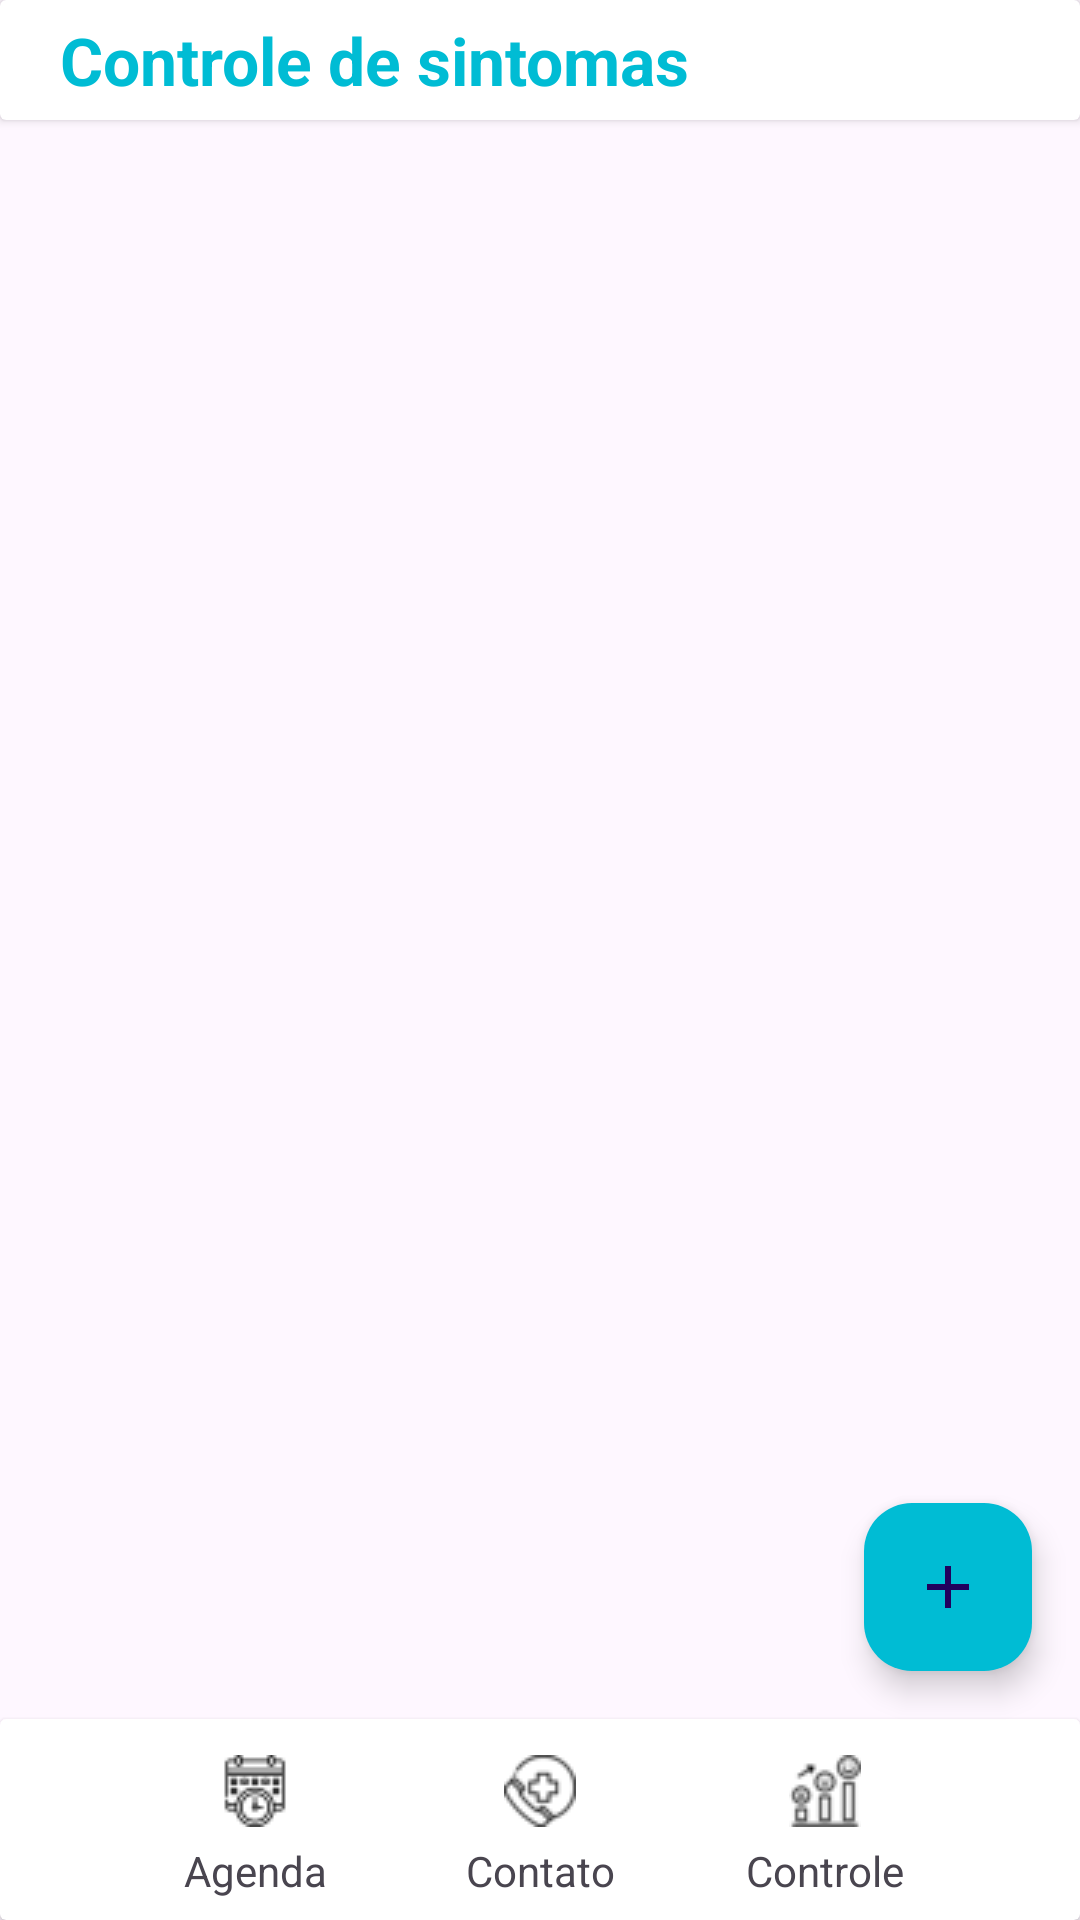

Locate icon controls on the screen. Image size 1080px×1920px, boxes as [left=x1, top=y1, right=x2, bottom=y2].
Adicionar palavra: [left=864, top=1503, right=1032, bottom=1671]
emergencia: [left=504, top=1755, right=576, bottom=1827]
